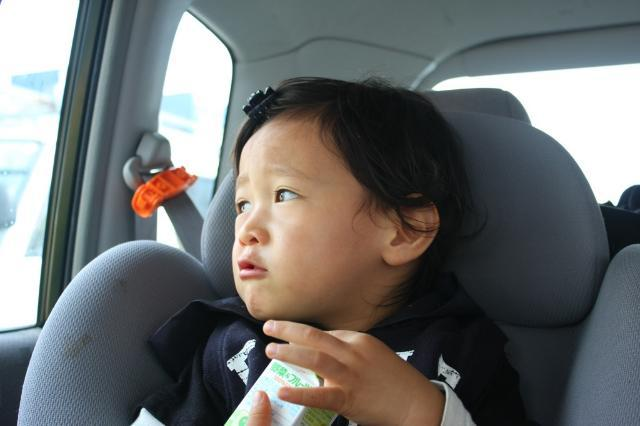SafeDriving: (264, 174, 313, 212), (227, 184, 260, 220)
Seatbelt: (134, 152, 206, 264)
